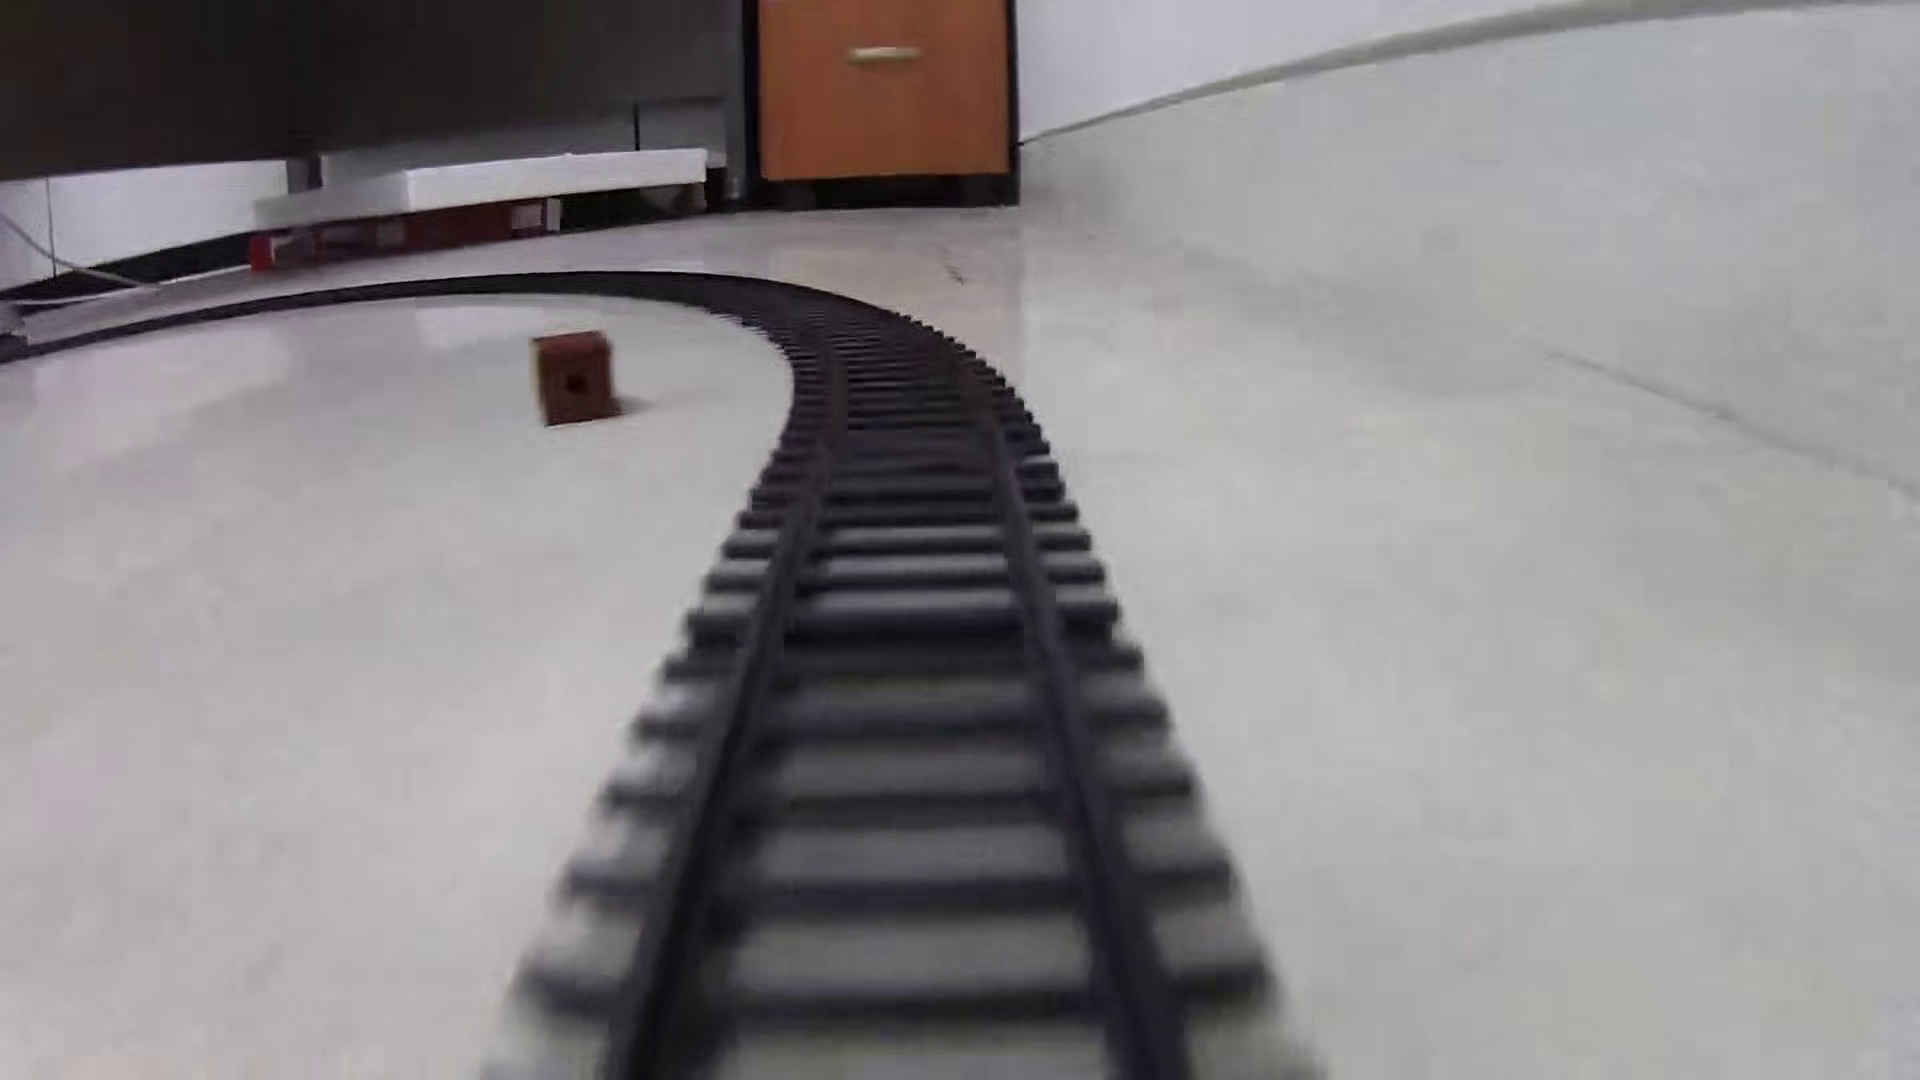box: (526, 329, 629, 424)
